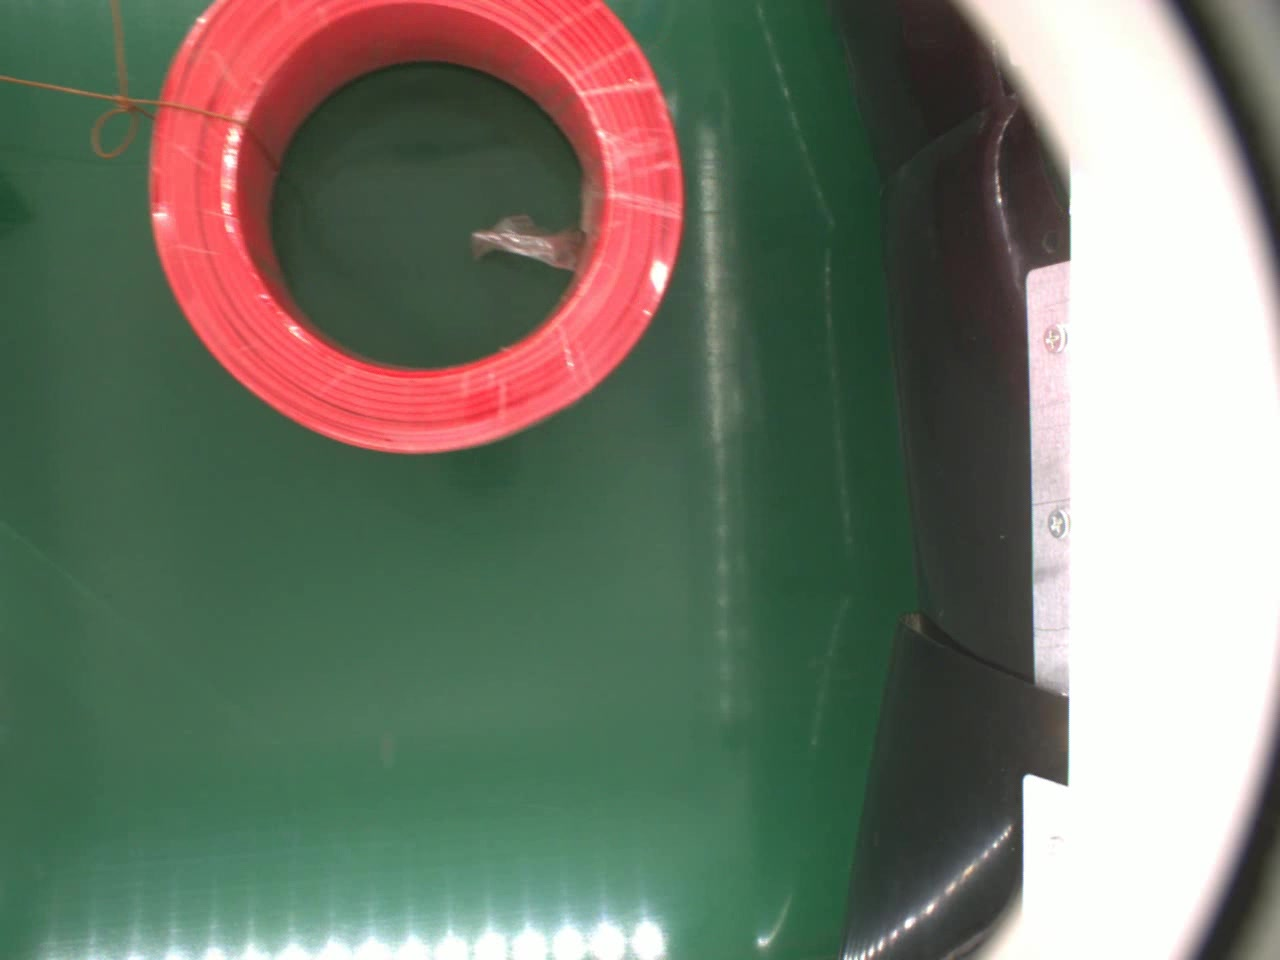red: (143, 0, 683, 458)
